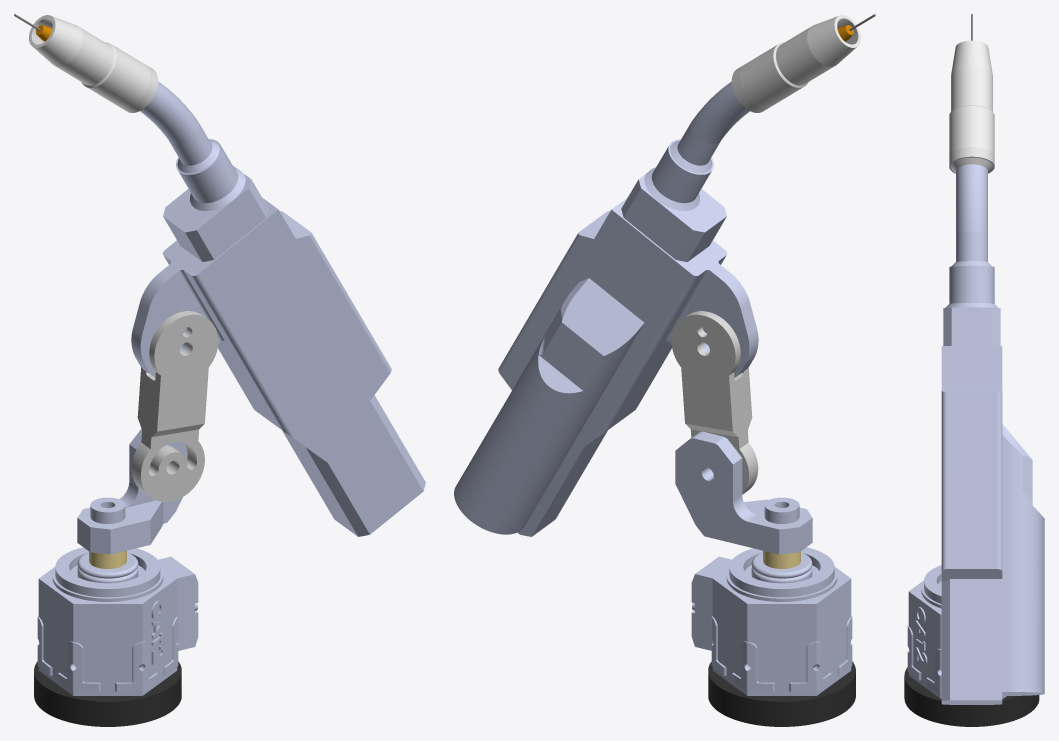
The model's file is abirob_a300_eco.glb.
The picture shows the model from 3 angles, left to right: view 1: azimuth 30°, elevation 25°; view 2: azimuth 150°, elevation 25°; view 3: azimuth 270°, elevation 25°; orthographic projection. The views are drawn at different scales.
Visible parts, largest first — view 1: Кронштейн 2.STEP; view 2: Кронштейн 2.STEP; view 3: Кронштейн 2.STEP.
Part boxes in pixels (x1,y1,x2,y2): Кронштейн 2.STEP: (14,14,425,726); Кронштейн 2.STEP: (454,14,875,726); Кронштейн 2.STEP: (904,14,1044,726).
Size of the model in its own units: 250 by 421 by 83.
Materials: 1 (1 with a texture image).
